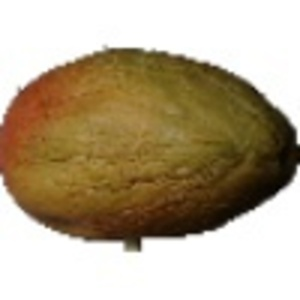mamão: (2, 41, 297, 239)
